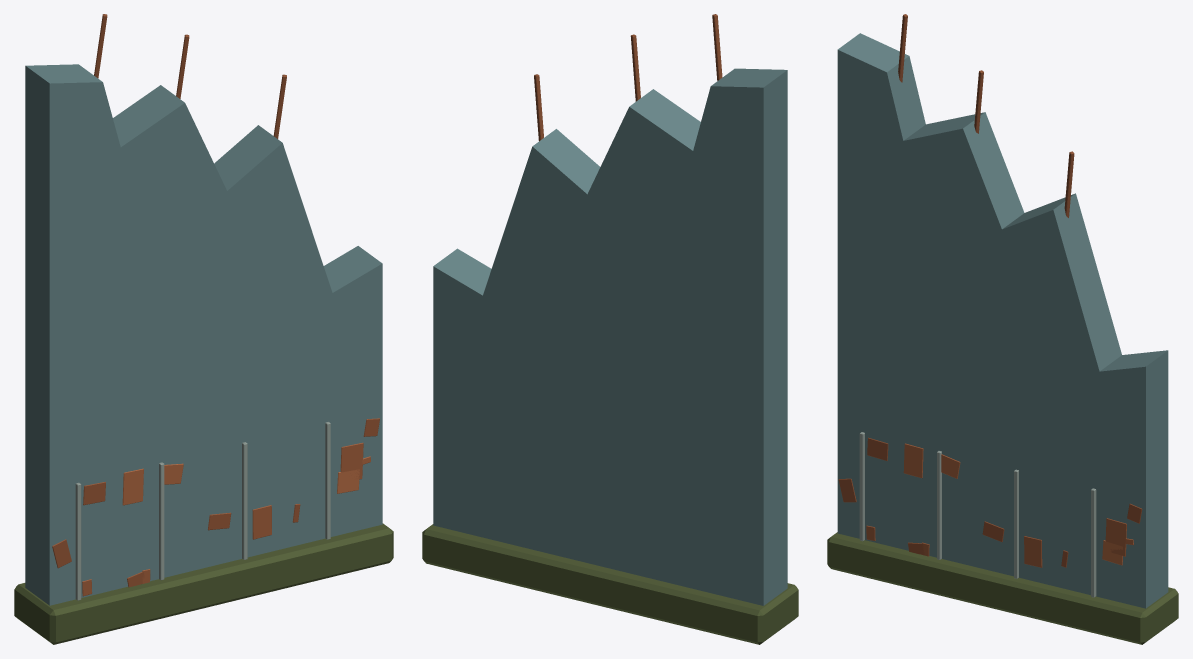
File: Wall_Broken_Tall.glb
The picture shows the model from 3 angles, left to right: view 1: azimuth 30°, elevation 25°; view 2: azimuth 150°, elevation 25°; view 3: azimuth 330°, elevation 25°; orthographic projection. The views are drawn at different scales.
Parts seen in each view (by area): view 1: Wall_Broken_Tall; view 2: Wall_Broken_Tall; view 3: Wall_Broken_Tall.
Part boxes in pixels (left/top/right/bottom): Wall_Broken_Tall: left=14, top=14, right=393, bottom=644; Wall_Broken_Tall: left=422, top=14, right=798, bottom=644; Wall_Broken_Tall: left=827, top=14, right=1178, bottom=644.
Bounding box in the file's own units: 3.1 × 5.2 × 0.62.
Materials: 7 (1 with a texture image).
